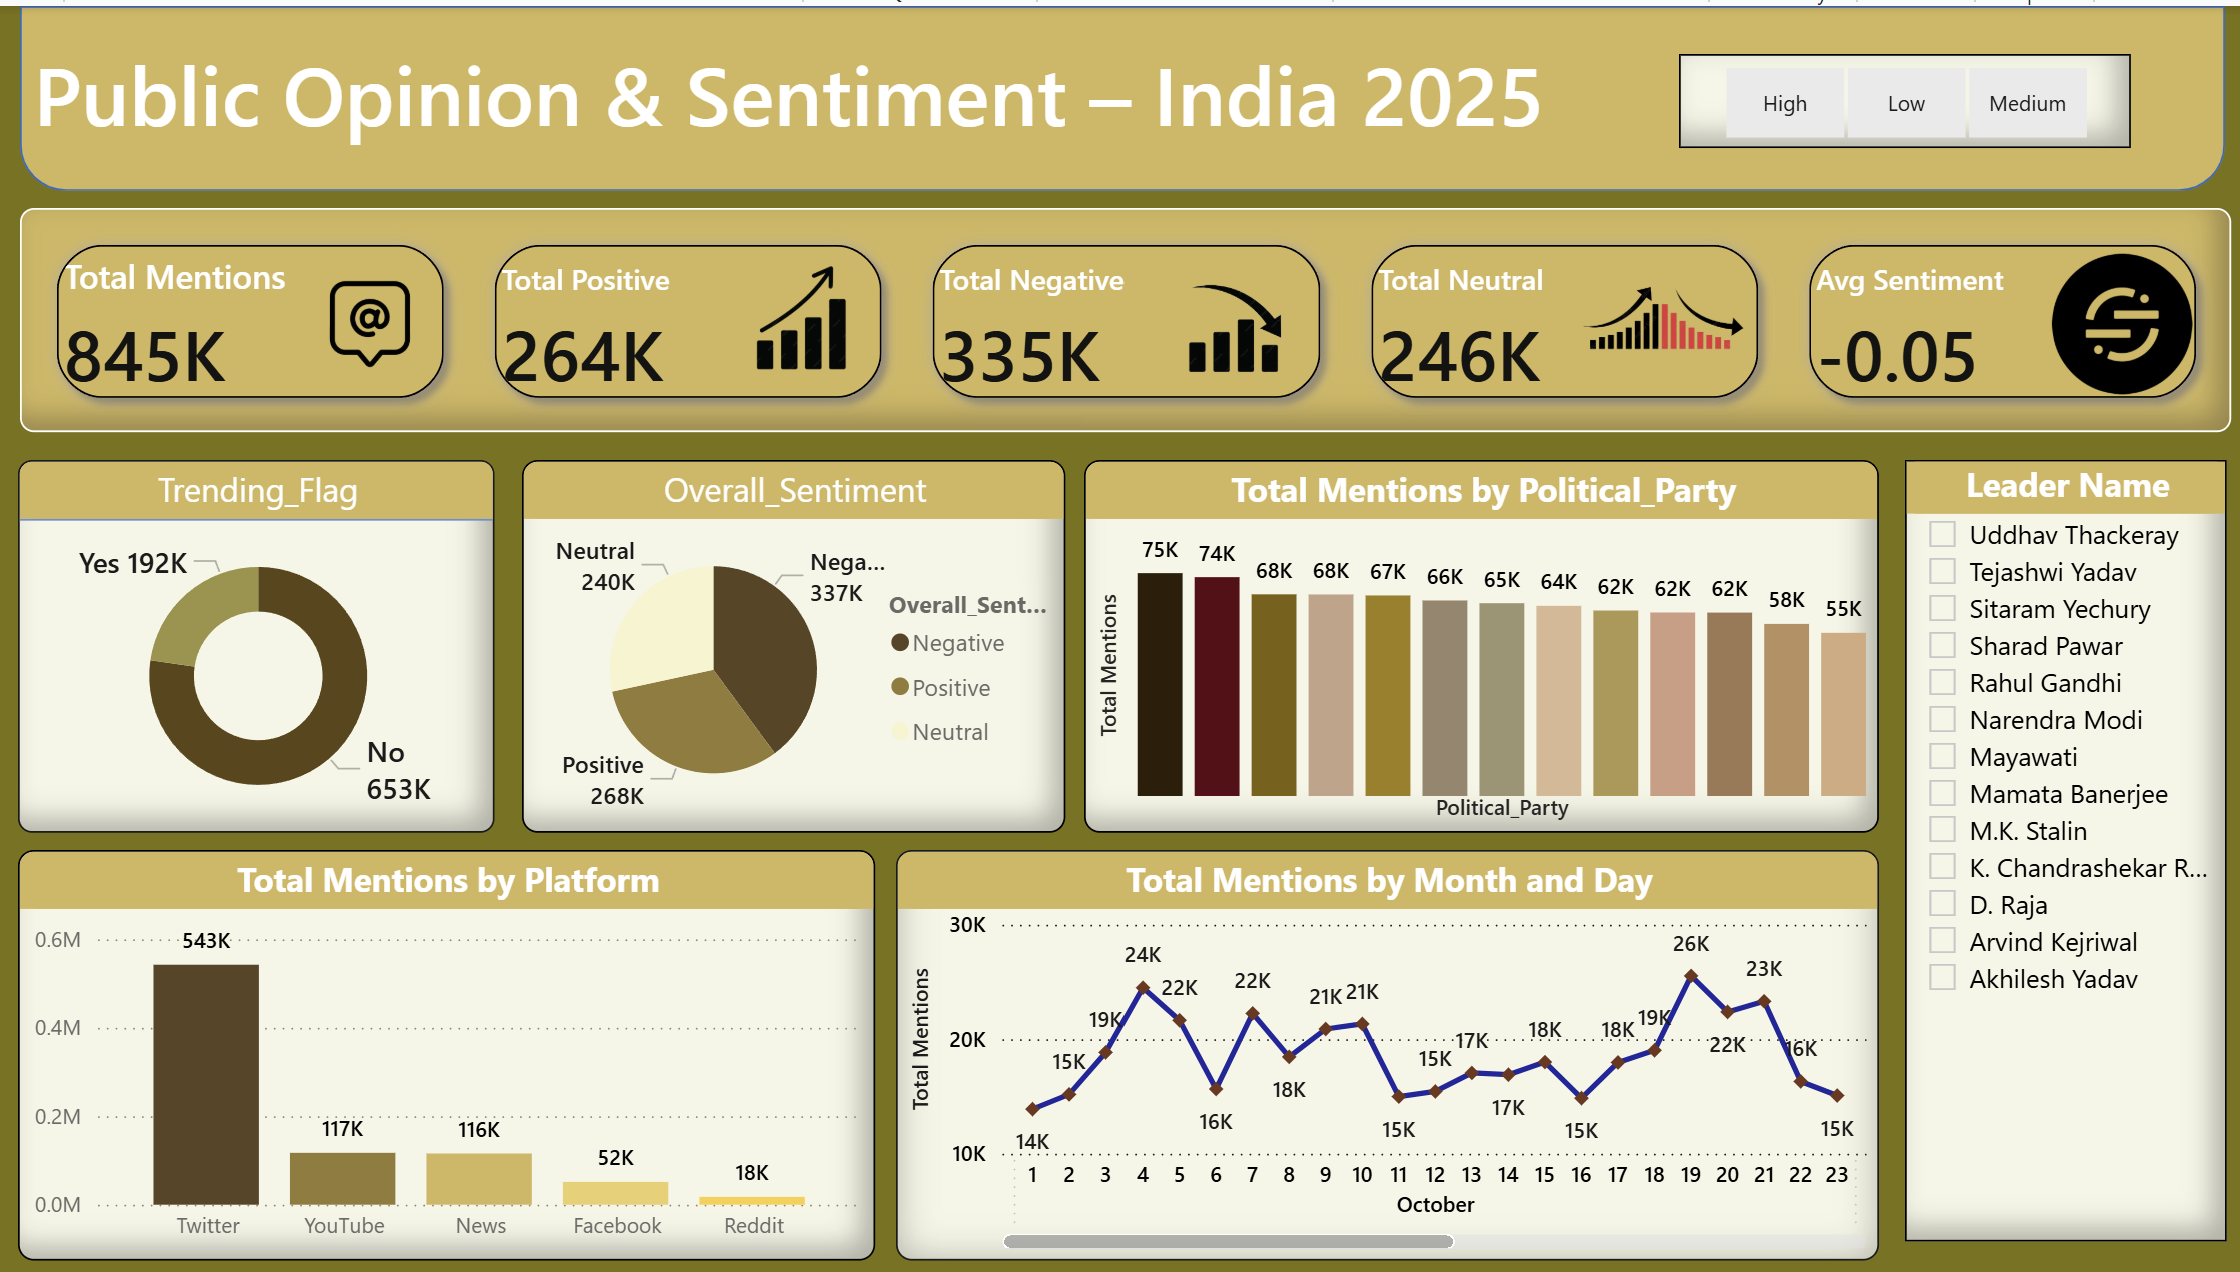

This screenshot's page, from the dashboard's own definition file:
{"tool":"powerbi","page":{"name":"Overview","canvas":[1280,720],"ordinal":0},"visuals":[{"type":"shape","box":[13.8,0,1253.4,105.2],"z":0},{"type":"cardVisual","title":"Total Mentions","fields":{"Data":["Public_opinion_sentiment_india_2025.Total Mentions","Public_opinion_sentiment_india_2025.Positive_Count","Public_opinion_sentiment_india_2025.Negative_Count","Public_opinion_sentiment_india_2025.Neutral_Count","Public_opinion_sentiment_india_2025.Avg Sentiment"]},"box":[14,114.7,1257.1,127.5],"z":3000},{"type":"lineClusteredColumnComboChart","fields":{"Category":["Public_opinion_sentiment_india_2025.Political_Party"],"Y":["Public_opinion_sentiment_india_2025.Total Mentions"]},"box":[618.9,258.3,451.6,212.1],"z":7000},{"type":"lineChart","fields":{"Category":["Public_opinion_sentiment_india_2025.Date.Variation.Date Hierarchy.Month","Public_opinion_sentiment_india_2025.Date.Variation.Date Hierarchy.Day"],"Y":["Public_opinion_sentiment_india_2025.Total Mentions"]},"box":[512.2,480.4,558.3,233.7],"z":8000},{"type":"slicer","title":"Leader Name","fields":{"Values":["Public_opinion_sentiment_india_2025.Leader_Name"]},"box":[1085,258.3,183.2,444.4],"z":11000},{"type":"lineStackedColumnComboChart","fields":{"Category":["Public_opinion_sentiment_india_2025.Platform"],"Y":["Public_opinion_sentiment_india_2025.Total Mentions"]},"box":[13,480.4,487.7,233.7],"z":12000},{"type":"pieChart","title":"Overall_Sentiment","fields":{"Category":["Public_opinion_sentiment_india_2025.Overall_Sentiment"],"Y":["Public_opinion_sentiment_india_2025.Total Mentions"]},"box":[298.7,258.3,308.8,212.1],"z":13000},{"type":"donutChart","title":"Trending_Flag","fields":{"Category":["Public_opinion_sentiment_india_2025.Trending_Flag"],"Y":["Public_opinion_sentiment_india_2025.Total Mentions"]},"box":[13,258.3,271.2,212.1],"z":14000},{"type":"slicer","title":"Public_Concern_Level","fields":{"Values":["Public_opinion_sentiment_india_2025.Public_Concern_Level"]},"box":[956.6,27.4,256.8,53.4],"z":16000}]}

Visuals, with their boxes in screenshot pixels (x1, y1, x2, y2), scaled from the page's 1280x720 canvas onto the 2240x1272 screenshot:
shape: region(24, 0, 2218, 186)
"Total Mentions" cardVisual: region(24, 203, 2224, 428)
lineClusteredColumnComboChart - Public_opinion_sentiment_india_2025.Political_Party x Public_opinion_sentiment_india_2025.Total Mentions: region(1083, 456, 1873, 831)
lineChart - Public_opinion_sentiment_india_2025.Date.Variation.Date Hierarchy.Month x Public_opinion_sentiment_india_2025.Date.Variation.Date Hierarchy.Day: region(896, 849, 1873, 1262)
"Leader Name" slicer: region(1899, 456, 2219, 1241)
lineStackedColumnComboChart - Public_opinion_sentiment_india_2025.Platform x Public_opinion_sentiment_india_2025.Total Mentions: region(23, 849, 876, 1262)
"Overall_Sentiment" pieChart: region(523, 456, 1063, 831)
"Trending_Flag" donutChart: region(23, 456, 497, 831)
"Public_Concern_Level" slicer: region(1674, 48, 2123, 143)
